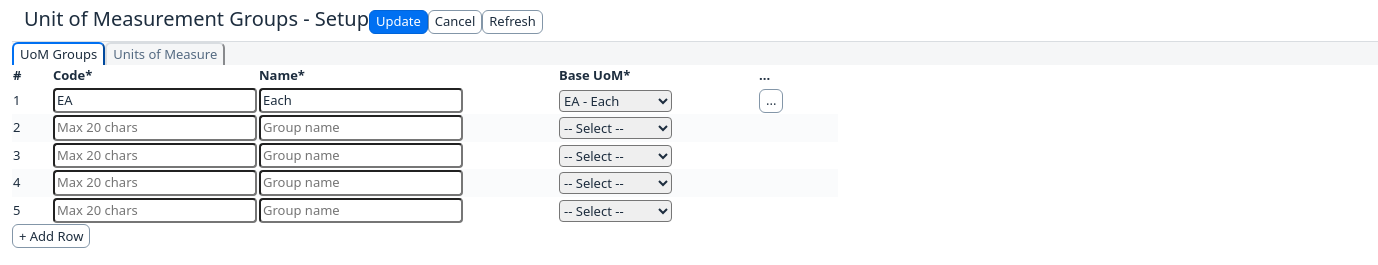
Test: existing units are visible separately from groups and selectable as the base
This screenshot has width=1378, height=265.
Check: the field showing "Each" is shown, box [259,88,463,113]
Click the tab "Units of Measure" at point(165, 54), box [105,42,225,65]
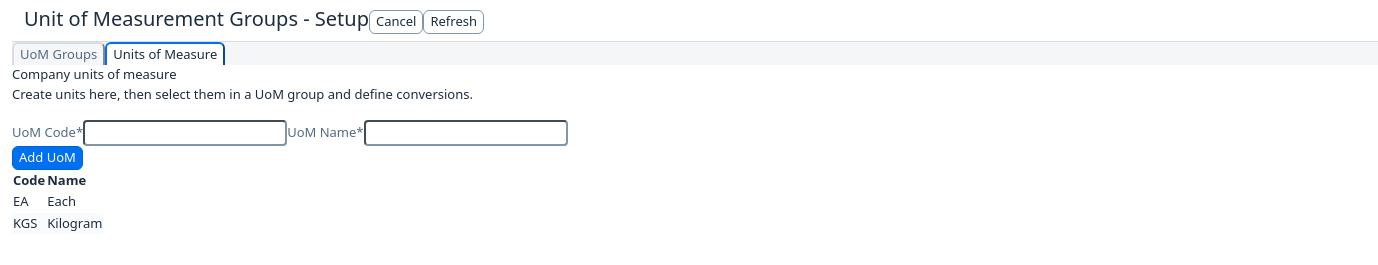
Check: the text "KGS" is shown, box [12,213,46,234]
Check: the text "Kilogram" is shown, box [46,213,104,234]
